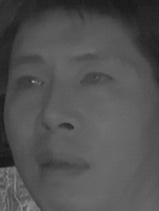eye: (77, 67, 118, 89), (13, 74, 46, 95)
mouth: (34, 146, 90, 183)
